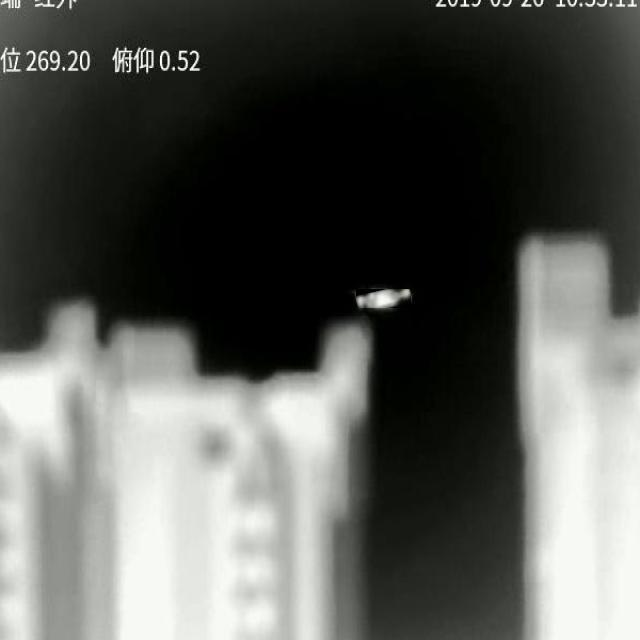drone: (356, 289, 411, 308)
